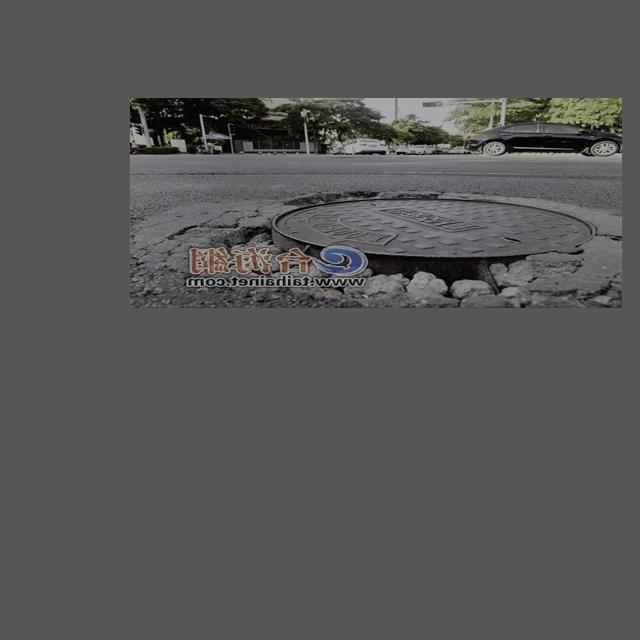circle: (157, 189, 614, 296)
